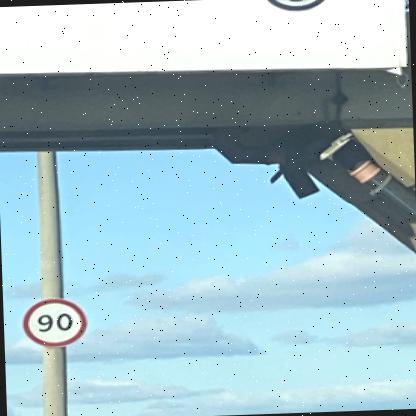speedlimit: (20, 296, 87, 346)
